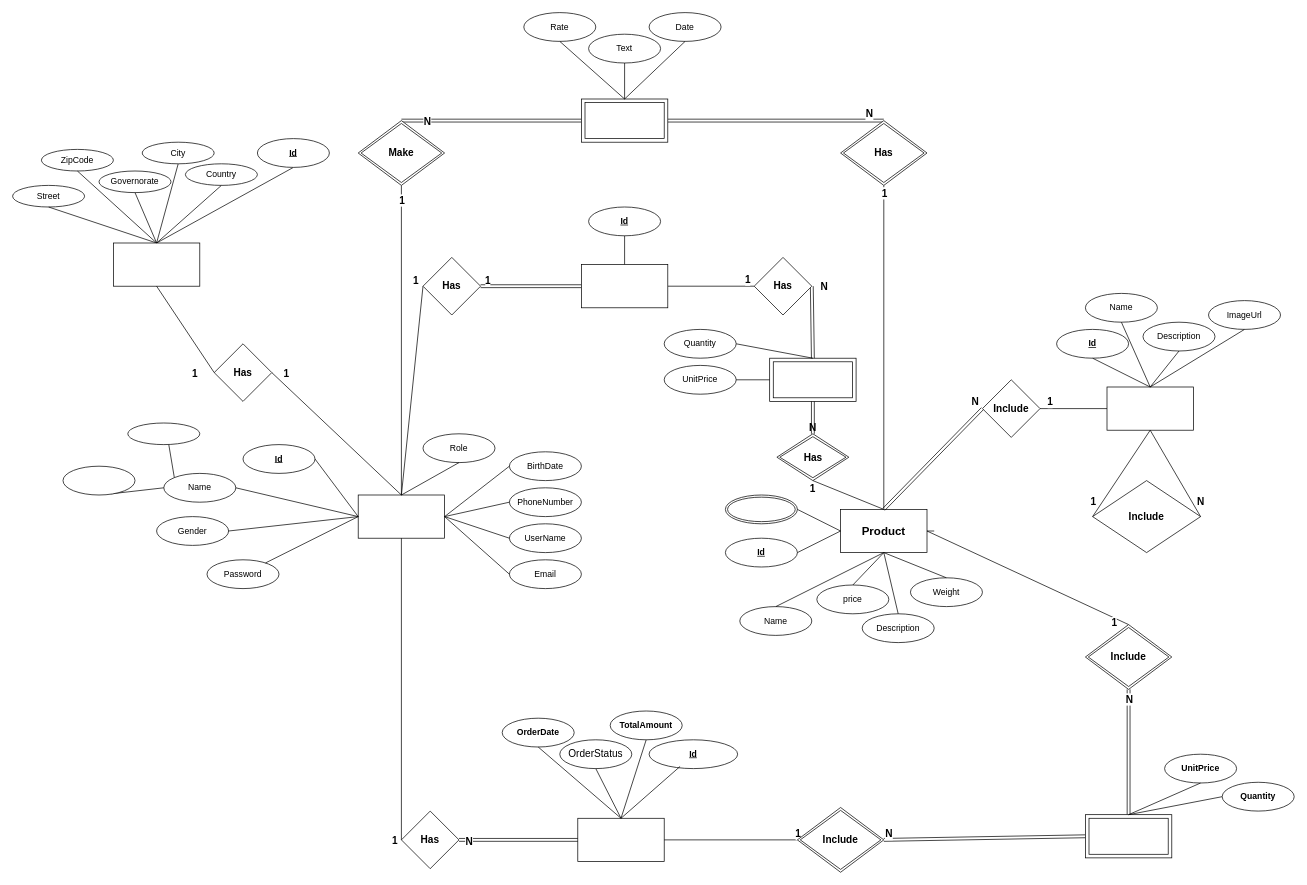
The diagram is 1307 pixels wide and 885 high, and some of its shapes have lost their labels. Each missing label, with the box of its shape:
address: (113, 242, 200, 286)
Cart: (581, 264, 668, 308)
CartItem: (769, 357, 856, 401)
Category: (1106, 386, 1193, 430)
FirstName: (127, 422, 200, 445)
Images: (725, 494, 797, 524)
LastName: (62, 465, 135, 495)
Order: (577, 818, 664, 861)
OrderItem: (1085, 814, 1172, 858)
Review: (581, 98, 668, 142)
User: (357, 494, 445, 538)
